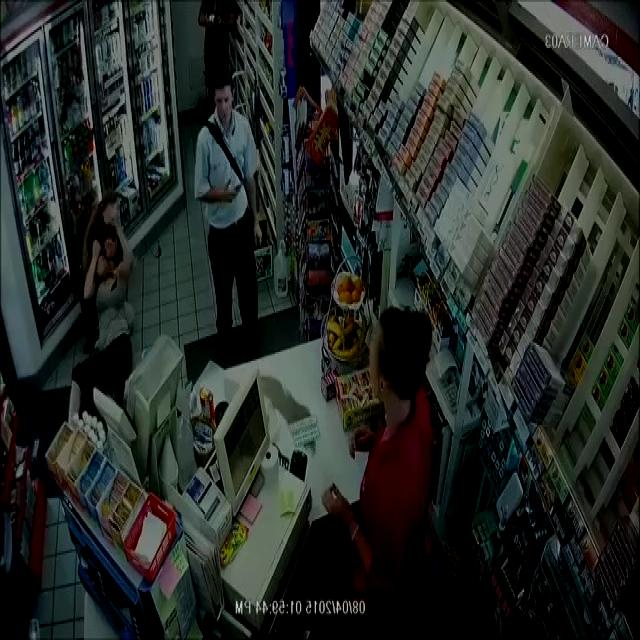fight: (48, 145, 155, 398)
